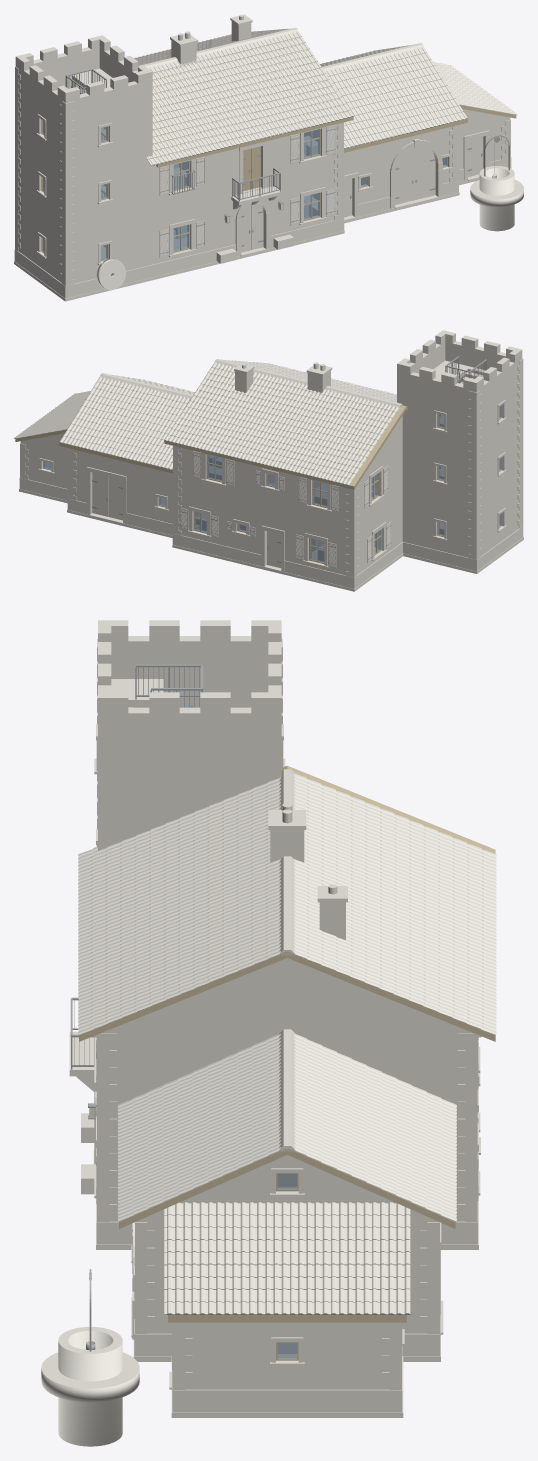
File: calanques_h09.glb
3 views of the same model, one above another, from view 1: azimuth 30°, elevation 25°; view 2: azimuth 150°, elevation 25°; view 3: azimuth 270°, elevation 25° (orthographic). The views are drawn at different scales.
Parts seen in each view (by area): view 1: Shell_Walls, roof_terracotta, Shell_Quoins, Shell_Foundation_Plinth, Shell_RoofDecks, sandstone_ashlar, shutter_paint, steel_painted_worn, glass, terracotta, DoorLeaf_14a_L_in, DoorLeaf_14b_R_in (+7 smaller); view 2: Shell_Walls, roof_terracotta, Shell_Quoins, Shell_Foundation_Plinth, Shell_RoofDecks, shutter_paint, glass, terracotta, wood_mahogany_varnished, steel_painted_worn, DoorLeaf_15b_R_in, Shell_Tower_Slabs (+2 smaller); view 3: roof_terracotta, Shell_Walls, Shell_Quoins, Shell_RoofDecks, Shell_Foundation_Plinth, sandstone_ashlar, terracotta, steel_painted_worn, Shell_Tower_Slabs.
Boxes of the visible parts, <box> form: Shell_Walls: <box>15,21,510,283</box>; roof_terracotta: <box>134,28,517,165</box>; Shell_Quoins: <box>15,14,510,286</box>; Shell_Foundation_Plinth: <box>14,157,511,301</box>; Shell_RoofDecks: <box>152,37,516,167</box>; sandstone_ashlar: <box>470,166,523,231</box>; shutter_paint: <box>159,125,335,257</box>; steel_painted_worn: <box>65,69,509,254</box>; glass: <box>42,120,446,260</box>; terracotta: <box>138,14,423,71</box>; DoorLeaf_14a_L_in: <box>414,145,435,200</box>; DoorLeaf_14b_R_in: <box>395,147,414,204</box>; Shell_Walls: <box>20,330,522,575</box>; roof_terracotta: <box>14,359,398,485</box>; Shell_Quoins: <box>20,358,523,577</box>; Shell_Foundation_Plinth: <box>19,478,523,591</box>; Shell_RoofDecks: <box>15,368,407,489</box>; shutter_paint: <box>180,451,391,568</box>; glass: <box>44,406,500,562</box>; terracotta: <box>99,358,402,407</box>; wood_mahogany_varnished: <box>43,405,501,563</box>; steel_painted_worn: <box>92,356,486,565</box>; DoorLeaf_15b_R_in: <box>92,472,108,516</box>; Shell_Tower_Slabs: <box>434,360,485,534</box>; roof_terracotta: <box>78,773,496,1314</box>; Shell_Walls: <box>98,620,472,1389</box>; Shell_Quoins: <box>69,638,480,1390</box>; Shell_RoofDecks: <box>79,765,495,1322</box>; Shell_Foundation_Plinth: <box>96,1086,478,1417</box>; sandstone_ashlar: <box>41,1035,481,1446</box>; terracotta: <box>278,769,337,1151</box>; steel_painted_worn: <box>70,664,478,1351</box>; Shell_Tower_Slabs: <box>111,679,163,707</box>.
Bounding box in the file's own units: 26.38 × 12.5 × 12.03.
